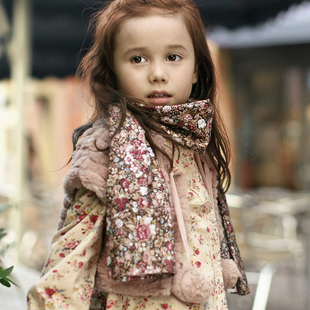face: (113, 14, 194, 114)
